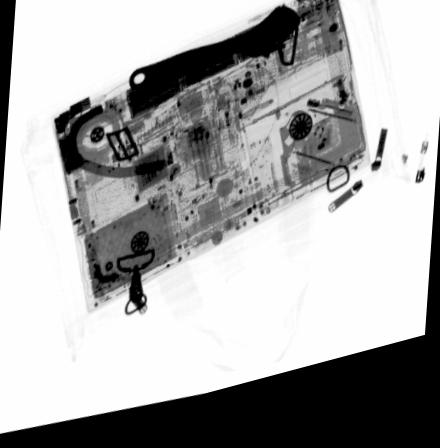Wrench: (125, 15, 302, 99)
